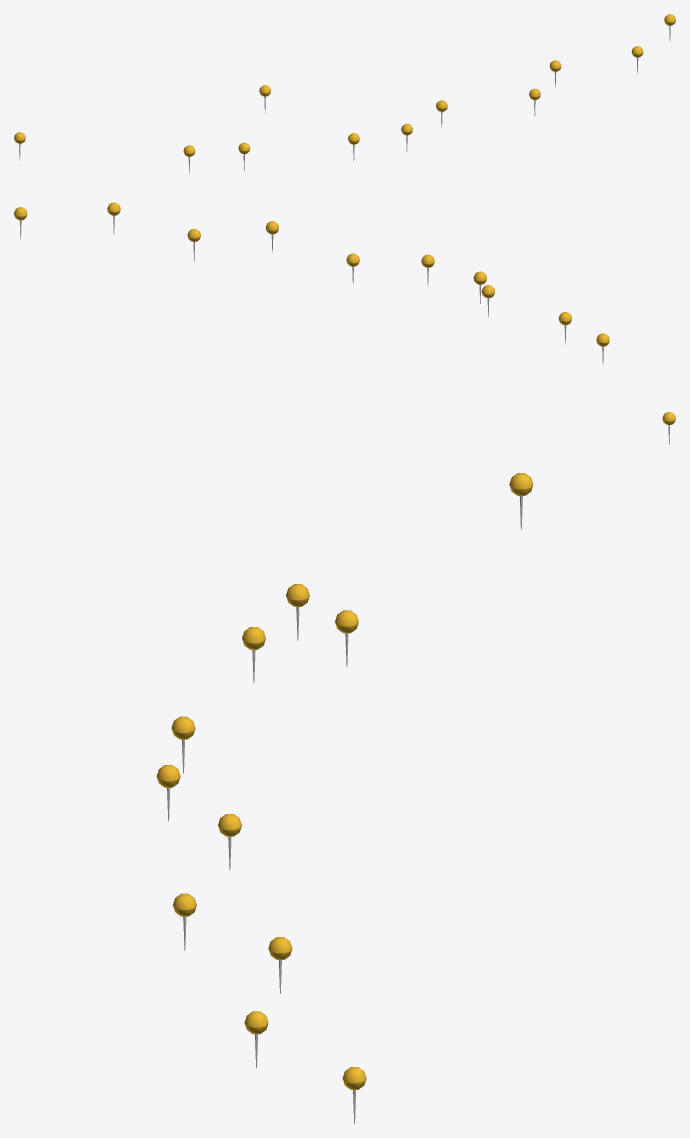
The model's file is placementPunaiseMap01.fbx.
3 views of the same model, one above another, from view 1: azimuth 30°, elevation 25°; view 2: azimuth 150°, elevation 25°; view 3: azimuth 270°, elevation 25° (orthographic). The views are drawn at different scales.
Parts seen in each view (by area): view 1: punaisePlacementSceneUne; view 2: punaisePlacementSceneUne; view 3: punaisePlacementSceneUne.
Boxes of the visible parts, <box> form: punaisePlacementSceneUne: <box>14,14,675,173</box>; punaisePlacementSceneUne: <box>14,202,675,444</box>; punaisePlacementSceneUne: <box>156,473,533,1123</box>.
Bounding box in the file's own units: 218 × 19.48 × 57.54.
